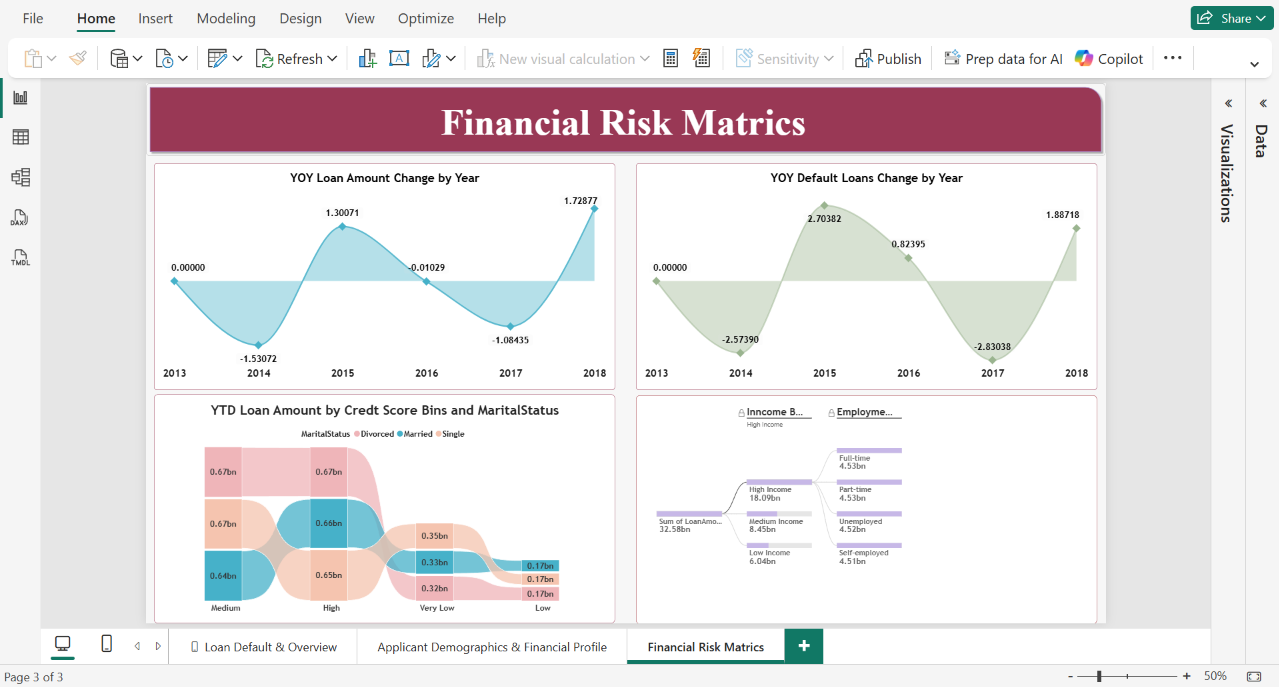

What the dashboard file says about the page in this screenshot:
{"tool":"powerbi","page":{"name":"Financial Risk Matrics","canvas":[1920,1080],"ordinal":2},"visuals":[{"type":"shape","box":[0,0,1919.3,145.4],"z":0},{"type":"lineChart","fields":{"Category":["Loan_default.Year"],"Y":["Measures Table 3.YOY Loan Amount Change"]},"box":[15.4,160.7,922.3,453.4],"z":1},{"type":"lineChart","fields":{"Category":["Loan_default.Year"],"Y":["Measures Table 3.YOY Default Loans Change"]},"box":[979.5,160.7,922.3,453.4],"z":2},{"type":"ribbonChart","fields":{"Category":["Loan_default.Credt Score Bins"],"Series":["Loan_default.MaritalStatus"],"Y":["Measures Table 3.YTD Loan Amount"]},"box":[15.4,622.9,922.3,457.8],"z":3},{"type":"decompositionTreeVisual","fields":{"Analyze":["Sum(Loan_default.LoanAmount)"],"ExplainBy":["Loan_default.Inncome Bracket","Loan_default.EmploymentType"]},"box":[980,623,922,457],"z":4}]}

Visuals, with their boxes on the page's 1920x1080 design canvas (x1, y1, x2, y2). These are canvas units, not pixel positions in the 1279x687 screenshot, which may show the page scaled, cropped or inside an application window:
shape: [0,0,1919,145]
lineChart - Loan_default.Year x Measures Table 3.YOY Loan Amount Change: [15,161,938,614]
lineChart - Loan_default.Year x Measures Table 3.YOY Default Loans Change: [980,161,1902,614]
ribbonChart - Loan_default.Credt Score Bins x Loan_default.MaritalStatus: [15,623,938,1081]
decompositionTreeVisual - Sum(Loan_default.LoanAmount) x Loan_default.Inncome Bracket: [980,623,1902,1080]
